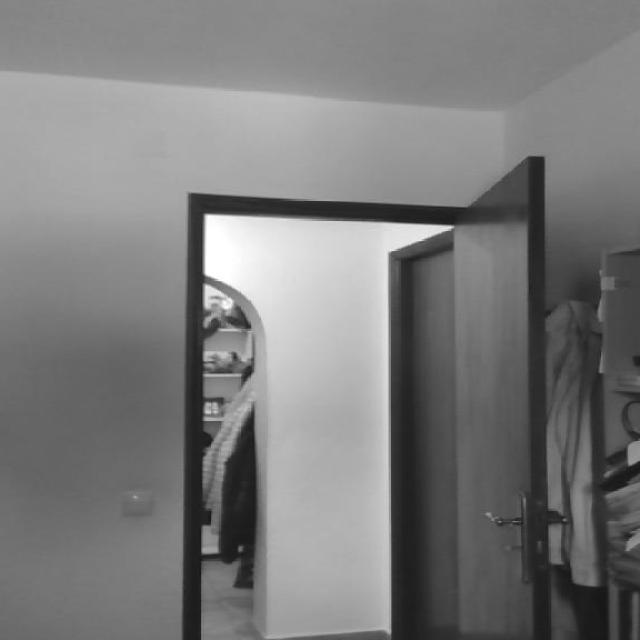door: (443, 153, 560, 640)
